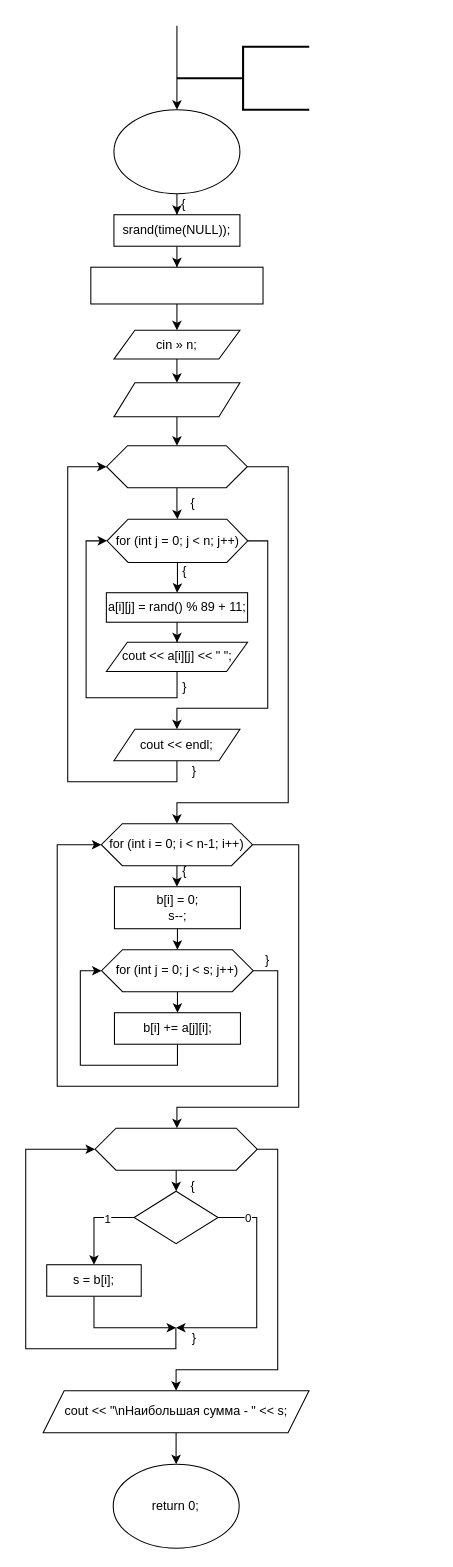
Image size: 453x1567. Some labels were removed from this diagram. Here are the shapes that lost their labels. From the top down, the centre of each, then its label:
pixel 242 77: #include <iostream> #include <cstdlib> #include <conio.h> using namespace std;
pixel 176 151: int main()
pixel 176 285: const int n = 5; int a[n][n], b[n-1], s = n, tmp;
pixel 176 399: cout « "Массив имеет вид: ";
pixel 176 466: for (int i = 0; i < n; i++)
pixel 175 1148: for (int i = 0; i < n - 1; i++)
pixel 175 1217: if (b[i] > s)
